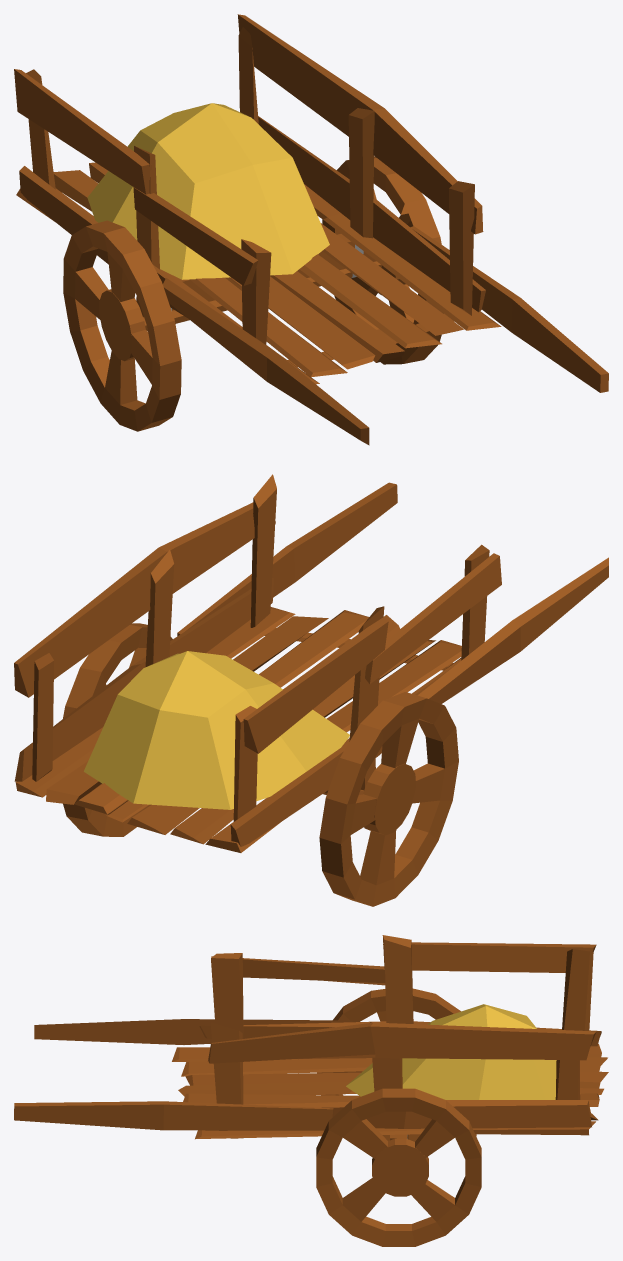
Rendered from Cart.glb.
3 renders of one model, top to bottom at view 1: azimuth 30°, elevation 25°; view 2: azimuth 150°, elevation 25°; view 3: azimuth 270°, elevation 25°, orthographic. The views are drawn at different scales.
Parts seen in each view (by area): view 1: Cube; view 2: Cube; view 3: Cube.
Boxes of the visible parts, x1=… form: Cube: x1=14, y1=14, x2=608, y2=445; Cube: x1=14, y1=474, x2=608, y2=906; Cube: x1=14, y1=935, x2=608, y2=1246.
Bounding box in the file's own units: 3.17 × 2.83 × 7.05.
